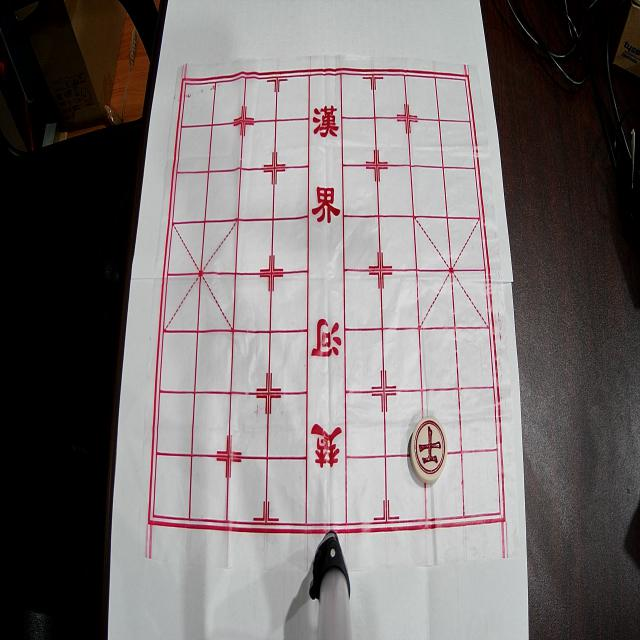red-guard: (410, 416, 448, 484)
